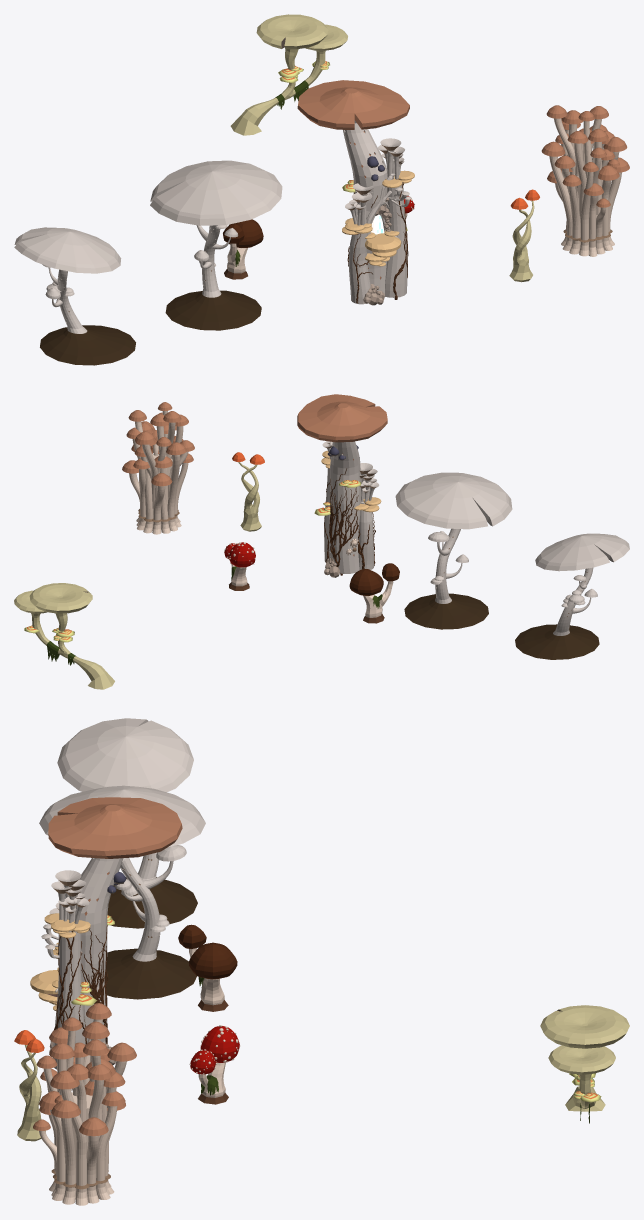
The model's file is ashley_tree05.glb.
3 renders of one model, top to bottom at view 1: azimuth 30°, elevation 25°; view 2: azimuth 150°, elevation 25°; view 3: azimuth 270°, elevation 25°, orthographic. The views are drawn at different scales.
Visible parts, largest first — view 1: Portal01, Cylinder.003, Cylinder.002, Cylinder.001, Cylinder, AmanitaMuscaria.005, Vert; view 2: Portal01, Cylinder.003, Cylinder.002, Cylinder.001, Cylinder, AmanitaMuscaria.005, Vert, AmanitaMuscaria.002; view 3: Portal01, Cylinder.002, Cylinder.001, Cylinder.003, Cylinder, AmanitaMuscaria.005, AmanitaMuscaria.002, Vert.
Part boxes in pixels (left/top/right/bottom): Portal01: left=297, top=80, right=414, bottom=305; Cylinder.003: left=150, top=160, right=282, bottom=330; Cylinder.002: left=541, top=105, right=629, bottom=256; Cylinder.001: left=14, top=227, right=135, bottom=365; Cylinder: left=230, top=14, right=347, bottom=135; AmanitaMuscaria.005: left=223, top=219, right=263, bottom=279; Vert: left=509, top=189, right=539, bottom=282; Portal01: left=297, top=394, right=387, bottom=577; Cylinder.003: left=395, top=472, right=512, bottom=629; Cylinder.002: left=122, top=402, right=194, bottom=534; Cylinder.001: left=515, top=533, right=629, bottom=659; Cylinder: left=14, top=583, right=114, bottom=689; AmanitaMuscaria.005: left=349, top=563, right=399, bottom=623; Vert: left=232, top=452, right=264, bottom=531; AmanitaMuscaria.002: left=224, top=542, right=255, bottom=590; Portal01: left=30, top=797, right=182, bottom=1069; Cylinder.002: left=33, top=1003, right=136, bottom=1205; Cylinder.001: left=57, top=718, right=197, bottom=928; Cylinder.003: left=39, top=785, right=205, bottom=999; Cylinder: left=540, top=1005, right=629, bottom=1123; AmanitaMuscaria.005: left=178, top=924, right=237, bottom=1011; AmanitaMuscaria.002: left=189, top=1025, right=240, bottom=1104; Vert: left=14, top=1030, right=45, bottom=1141.
Size of the model in its own units: 156 by 51.24 by 115.
13 materials, 13 textured.
